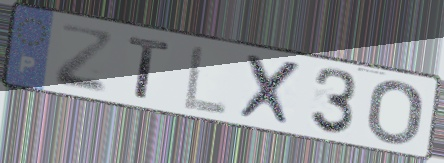3: (309, 68, 360, 138)
L: (180, 43, 230, 117)
O: (364, 79, 426, 147)
T: (125, 34, 174, 103)
X: (236, 52, 305, 130)
Z: (52, 20, 117, 96)
